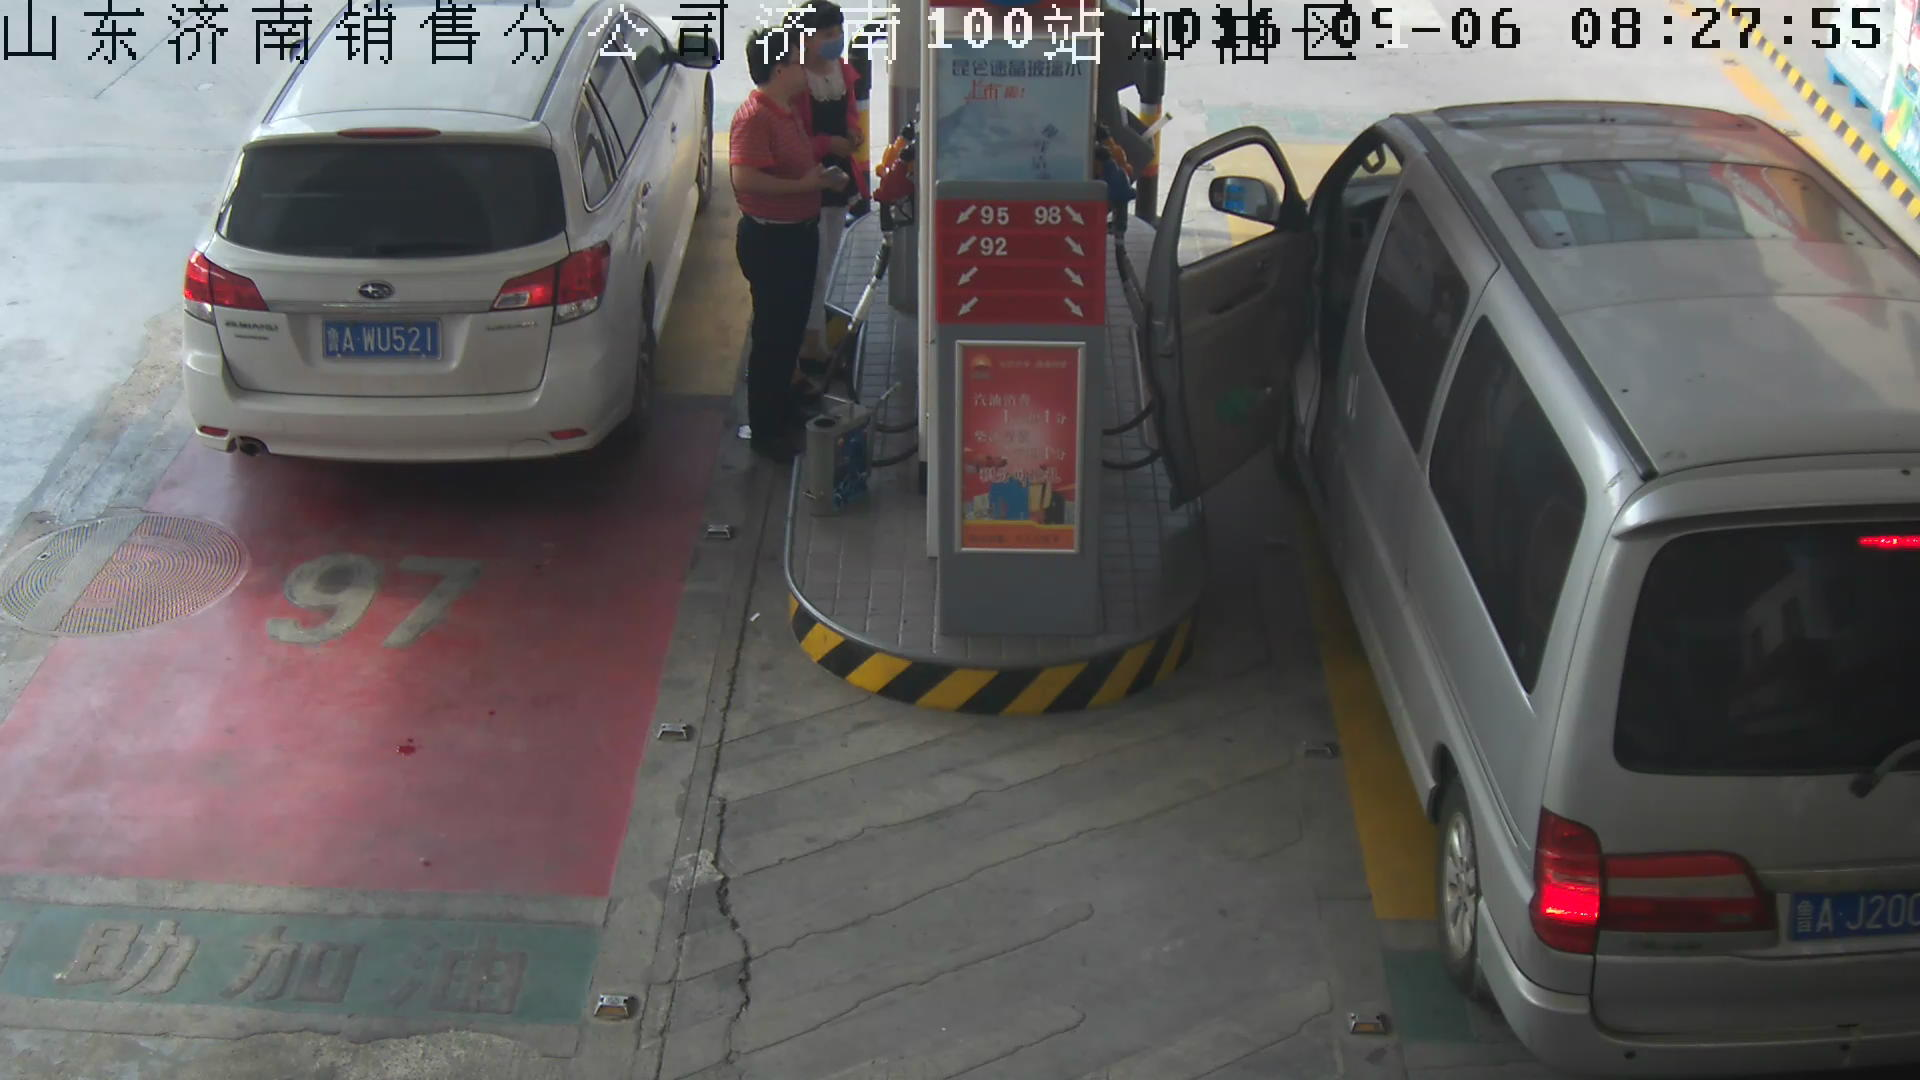blue: (320, 316, 442, 367)
